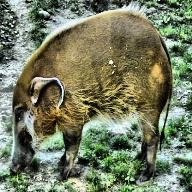boar: (4, 22, 192, 187)
